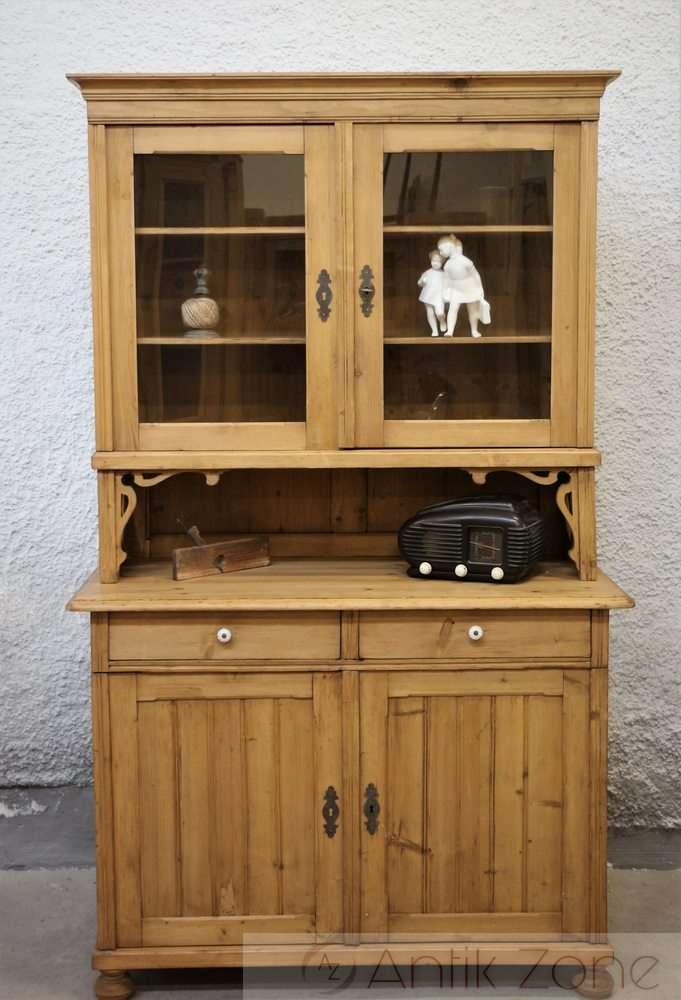cabinet_door: (114, 129, 345, 449), (354, 132, 578, 443), (118, 679, 353, 939), (362, 687, 593, 923), (363, 613, 592, 667), (109, 615, 340, 668)
handle: (350, 257, 386, 323), (309, 263, 339, 330), (320, 782, 342, 841), (364, 783, 382, 832), (466, 619, 487, 648), (215, 624, 234, 650)
